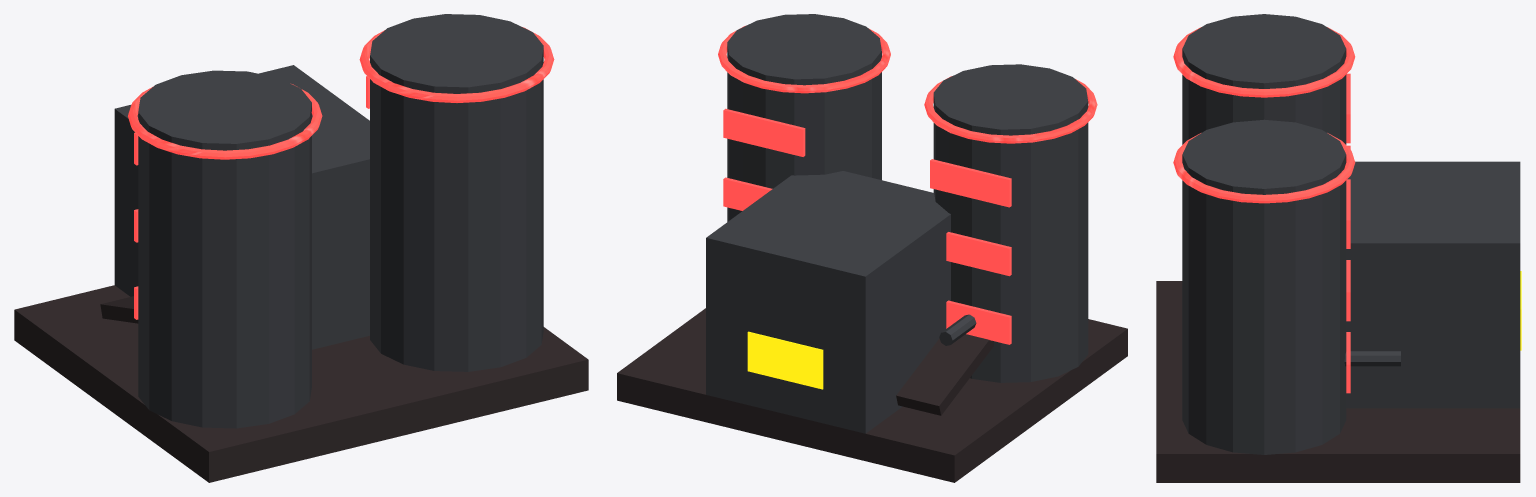
File: crimson_ore_melt.glb
3 views of the same model, side by side, from view 1: azimuth 30°, elevation 25°; view 2: azimuth 150°, elevation 25°; view 3: azimuth 270°, elevation 25° (orthographic). The views are drawn at different scales.
Visible parts, largest first — view 1: CrimsonOreMelt; view 2: CrimsonOreMelt; view 3: CrimsonOreMelt.
Boxes of the visible parts, x1,y1,x2,y2 form: CrimsonOreMelt: (14, 14, 588, 482); CrimsonOreMelt: (617, 14, 1127, 482); CrimsonOreMelt: (1156, 14, 1521, 482).
Size of the model in its own units: 3.8 by 2.86 by 3.21.
Materials: 4 (4 with a texture image).
